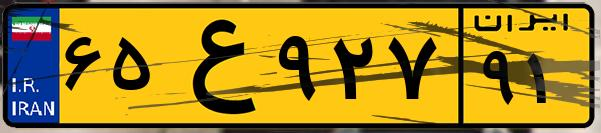1: (525, 38, 570, 115)
2: (330, 28, 385, 110)
5: (110, 28, 158, 98)
6: (57, 26, 110, 100)
7: (385, 28, 445, 110)
9: (270, 28, 330, 110), (475, 38, 525, 113)
ع: (158, 12, 270, 120)
